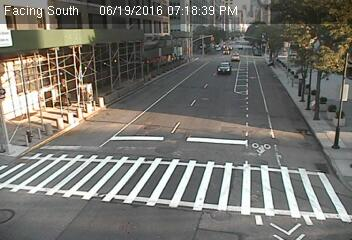neg: (26, 33, 52, 67), (126, 168, 150, 200), (87, 161, 108, 189), (172, 60, 192, 87), (206, 177, 226, 203), (305, 105, 324, 131), (87, 40, 106, 65), (279, 82, 297, 106), (57, 103, 74, 127), (166, 122, 182, 143), (256, 139, 271, 159), (307, 191, 322, 211), (275, 177, 289, 197), (102, 86, 116, 105), (44, 139, 58, 158), (221, 58, 234, 75)
